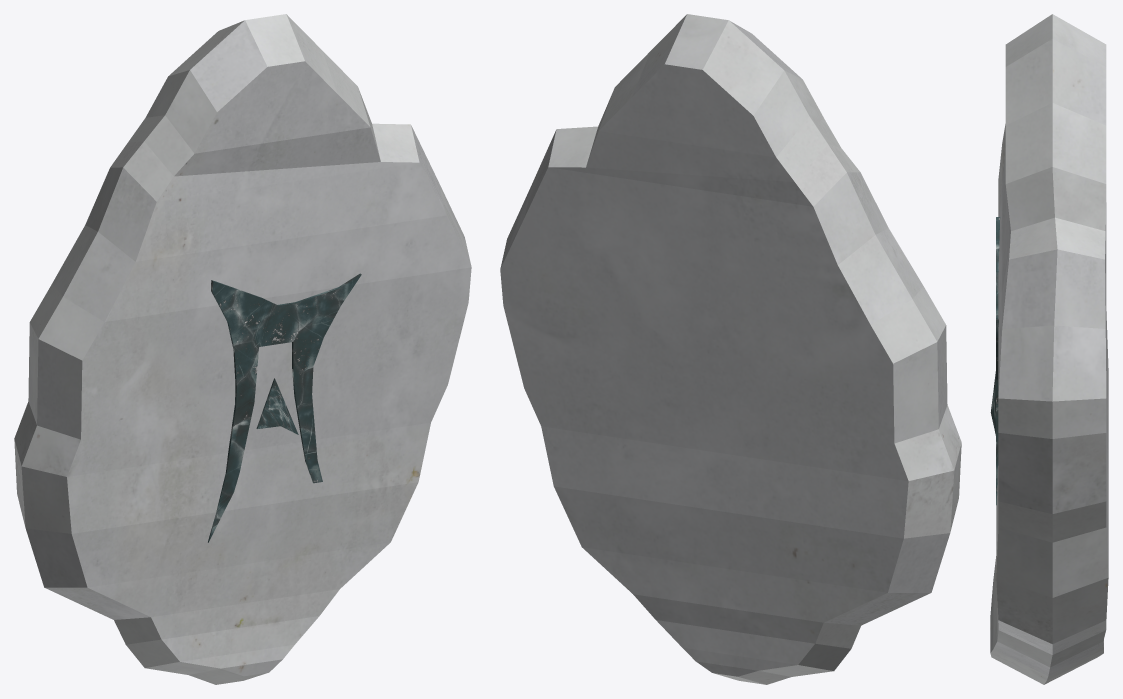
File: icewall.fbx
3 renders of one model, left to right at view 1: azimuth 30°, elevation 25°; view 2: azimuth 150°, elevation 25°; view 3: azimuth 270°, elevation 25°, orthographic. The views are drawn at different scales.
Visible parts, largest first — view 1: Cube.002, Cube.001; view 2: Cube.002; view 3: Cube.002, Cube.001.
Part boxes in pixels (<box>): Cube.002: <box>14,14,471,684</box>; Cube.001: <box>208,273,361,542</box>; Cube.002: <box>500,14,961,684</box>; Cube.002: <box>990,14,1108,684</box>; Cube.001: <box>990,217,1000,505</box>.
Size of the model in its own units: 121 by 171 by 27.1.
